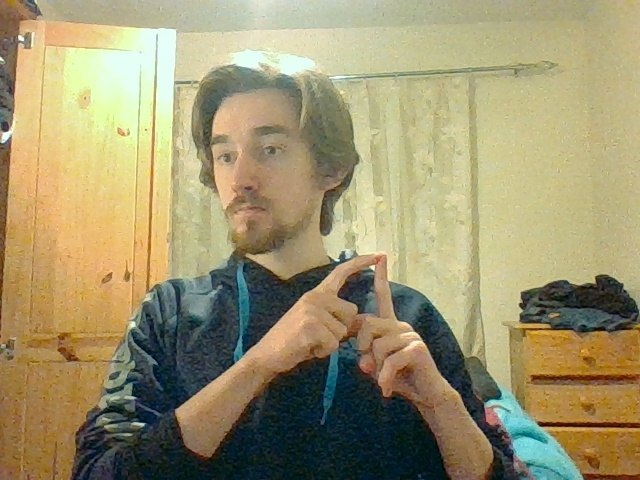daughter: (302, 252, 418, 368)
